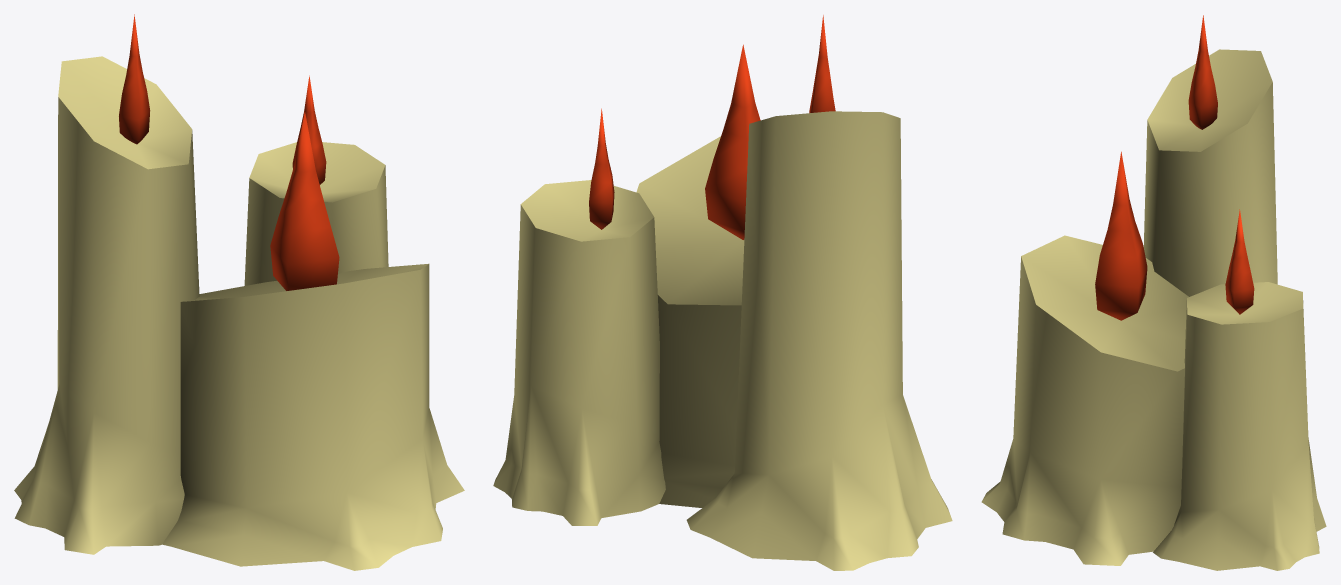
The model's file is obj_candleGroup_B.FBX.
3 views of the same model, side by side, from view 1: azimuth 30°, elevation 25°; view 2: azimuth 150°, elevation 25°; view 3: azimuth 270°, elevation 25° (orthographic). The views are drawn at different scales.
Parts seen in each view (by area): view 1: obj_candleGroup_B; view 2: obj_candleGroup_B; view 3: obj_candleGroup_B.
Boxes of the visible parts, <box> form: obj_candleGroup_B: <box>14,14,464,570</box>; obj_candleGroup_B: <box>493,15,952,570</box>; obj_candleGroup_B: <box>981,15,1326,570</box>.
Bounding box in the file's own units: 0.5495 × 0.6768 × 0.4851.
